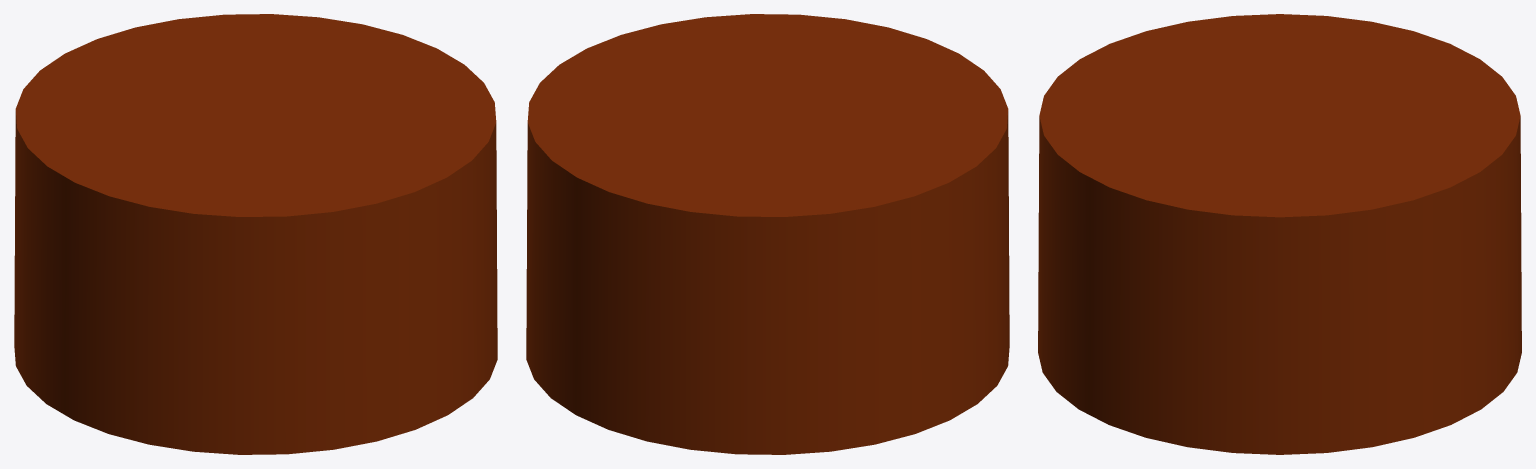
File: soda2.fbx
The picture shows the model from 3 angles, left to right: view 1: azimuth 30°, elevation 25°; view 2: azimuth 150°, elevation 25°; view 3: azimuth 270°, elevation 25°; orthographic projection.
Visible parts, largest first — view 1: soda2; view 2: soda2; view 3: soda2.
Part boxes in pixels (box(x1,y1,x2,y2)): soda2: box(14, 14, 497, 454); soda2: box(526, 14, 1009, 454); soda2: box(1038, 14, 1521, 454).
Size of the model in its own units: 197 by 107 by 197.
